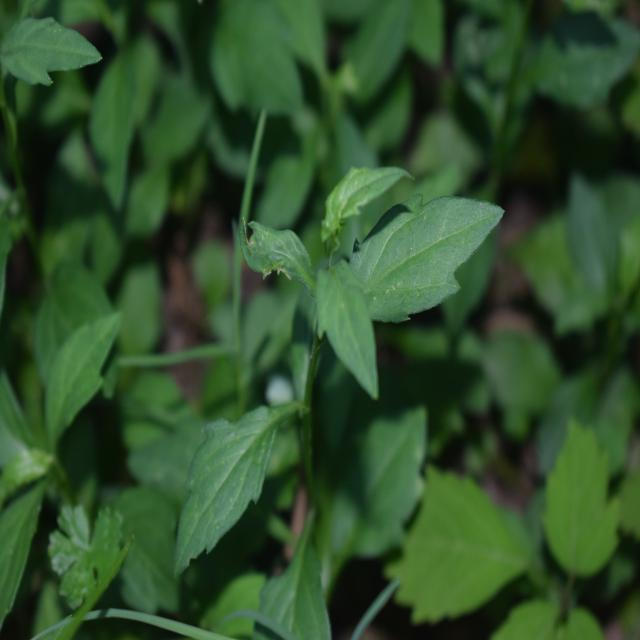Indian aster: (175, 130, 470, 566)
